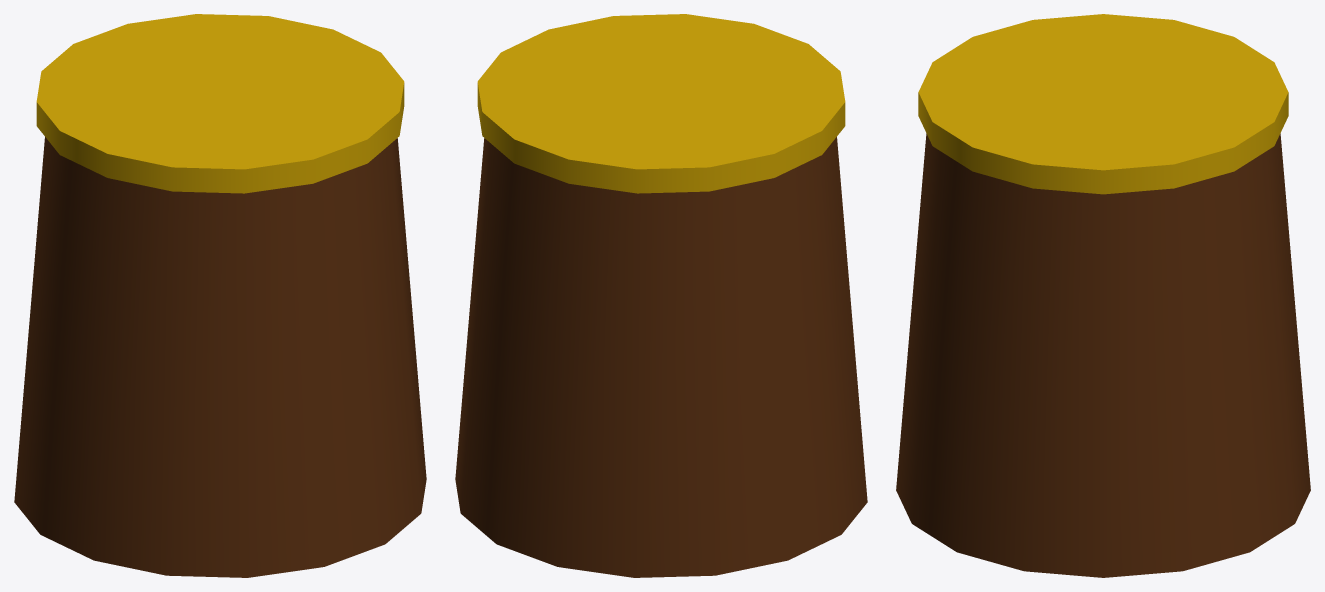
Rendered from performer-podium.glb.
3 views of the same model, side by side, from view 1: azimuth 30°, elevation 25°; view 2: azimuth 150°, elevation 25°; view 3: azimuth 270°, elevation 25° (orthographic).
Bounding box in the file's own units: 1 × 1.06 × 1.
